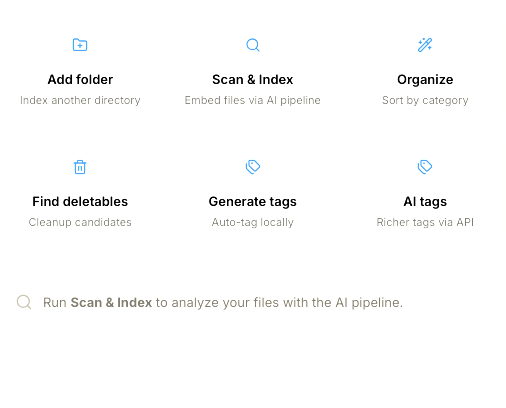
ScanView enhanced progress & debug panel › shows percentage text alongside the progress bar
Click the button "Scan & Index Embed files via AI pipeline". click: click(253, 68)
box: [172,12,334,124]
Wait 1100 ms
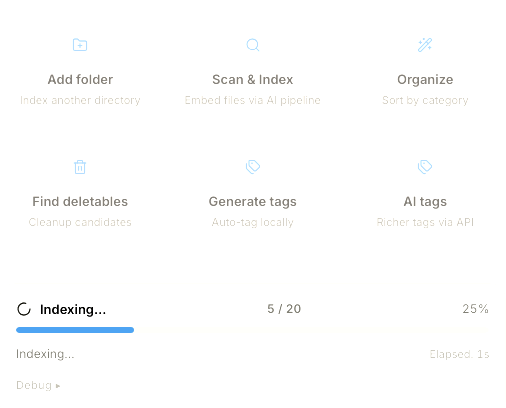
Now the text "25%" is shown, box [462,300,490,318]
